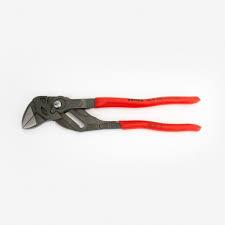pliers: (20, 94, 201, 132)
